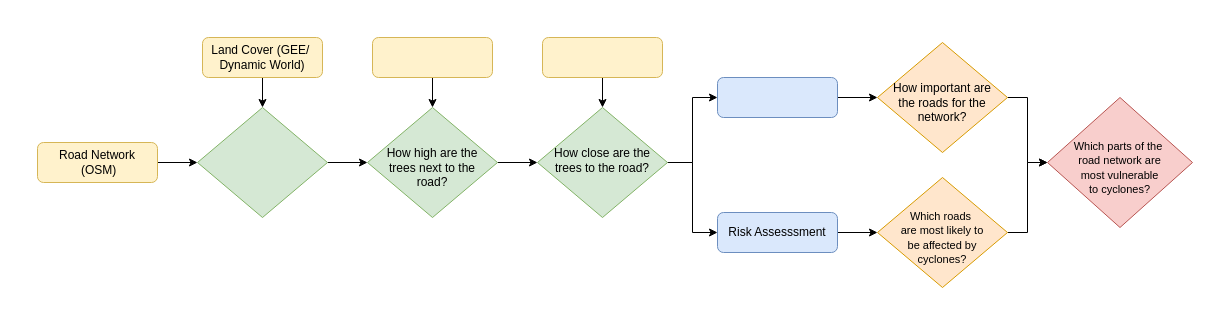
The diagram is 1224 pixels wide and 324 high, and some of its shapes have lost their labels. Each missing label, with the centre of its shape:
"Canopy Height (GEE)" belongs at pixel 432 57.
"Centrality Analysis" belongs at pixel 777 97.
"Machine Learning (Mapillary etc.)" belongs at pixel 602 57.
"Where are roads through forests?" belongs at pixel 262 162.
